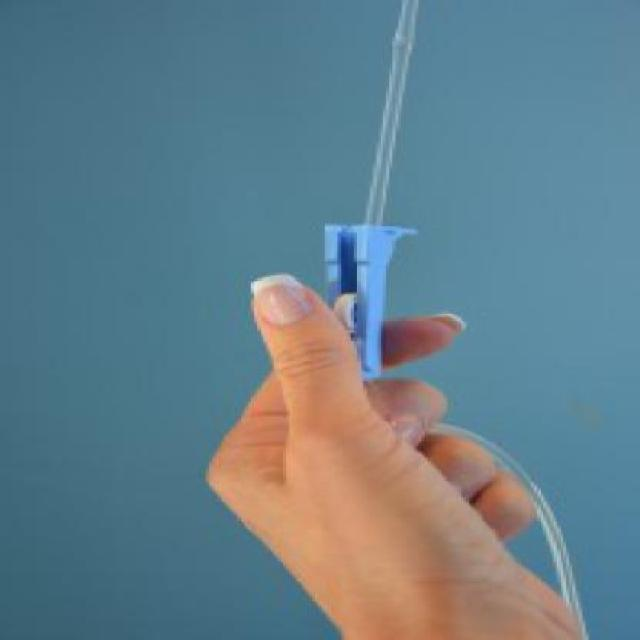B3: (324, 0, 601, 638)
